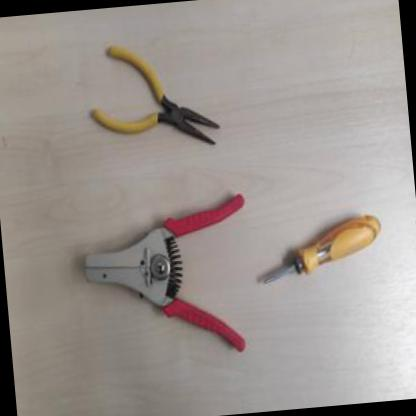Screwdriver: (252, 206, 388, 290)
